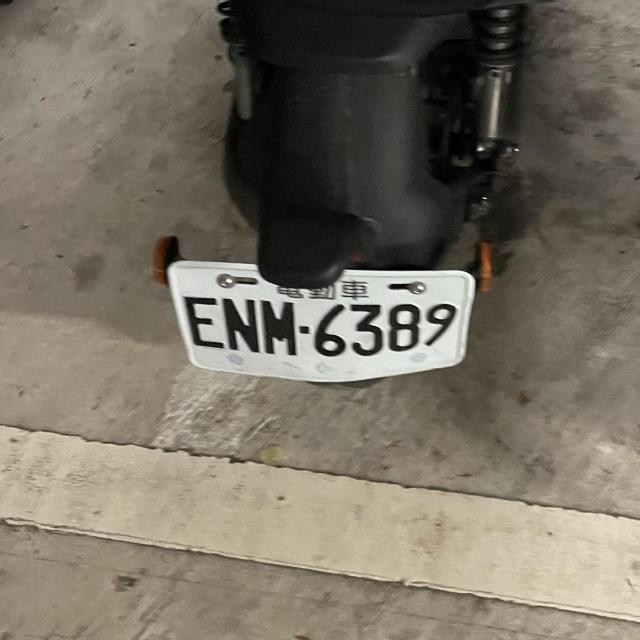W: (162, 254, 481, 391)
